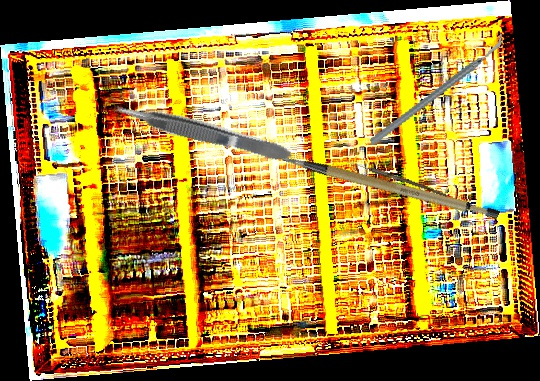Chopper: (352, 32, 522, 146)
Scalpel Handle: (278, 119, 502, 249)
Surgical Spoon: (342, 158, 448, 197)
Tissue Forceps: (107, 94, 295, 169)
